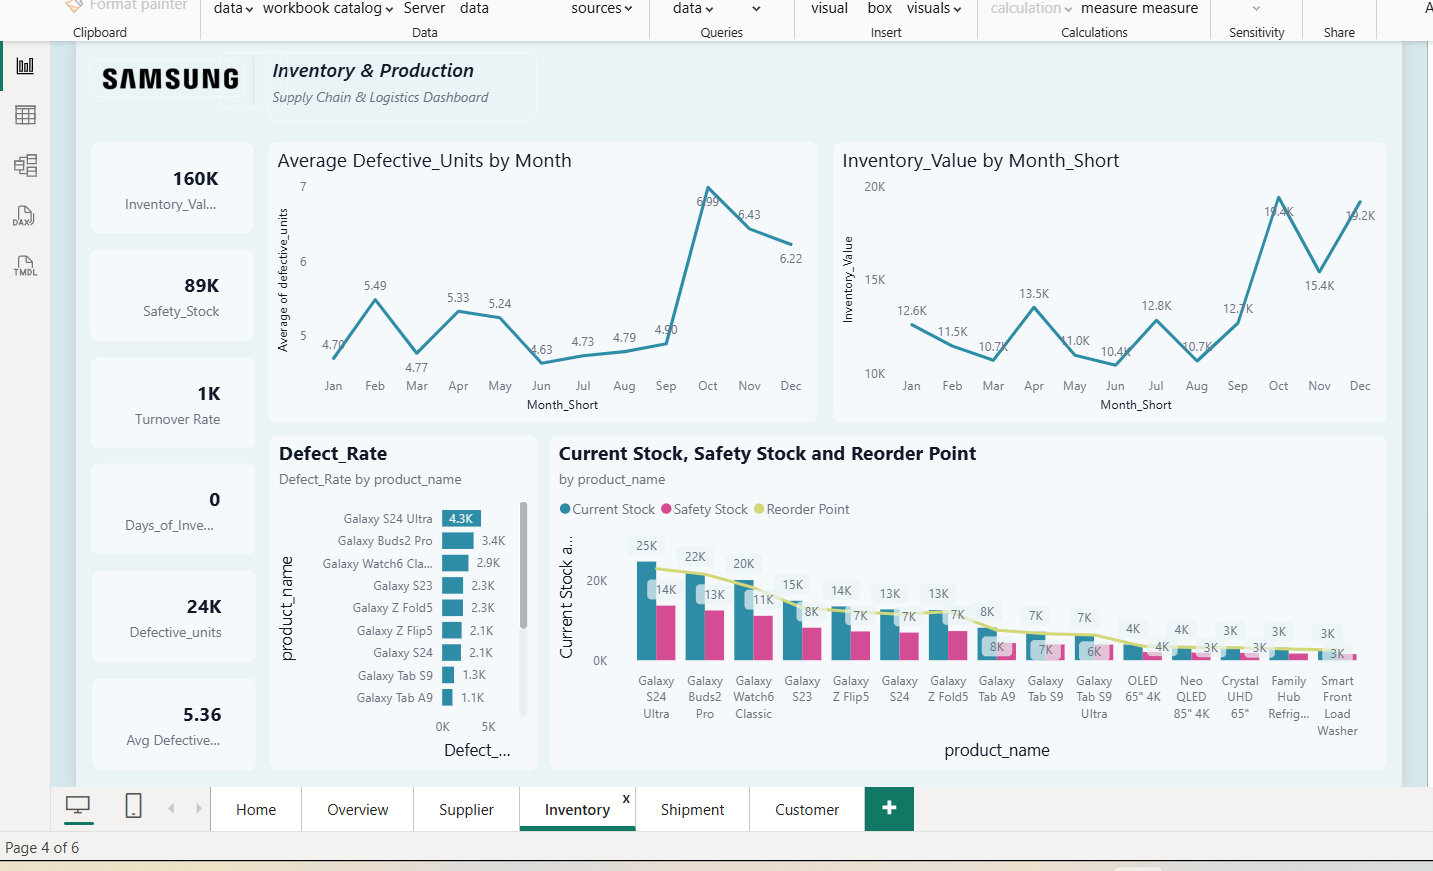

Layout of this report page (visuals, bound fields, positions):
{"tool":"powerbi","page":{"name":"Inventory","canvas":[1280,720],"ordinal":3},"visuals":[{"type":"shape","title":"Inventory & Production","box":[185.8,10.9,259.4,66.4],"z":0},{"type":"shape","box":[137.5,10.9,67.6,54.3],"z":1000},{"type":"image","box":[13.3,18.1,149.6,36.2],"z":2000},{"type":"cardVisual","fields":{"Data":["MeasureTable.Safety_Stock"]},"box":[13.3,201.2,158,88.1],"z":3000},{"type":"cardVisual","fields":{"Data":["MeasureTable.Turnover Rate"]},"box":[14,304.7,158,88.1],"z":4000},{"type":"cardVisual","fields":{"Data":["Sum(fact_production.defective_units)"]},"box":[15.4,511.8,158,88.1],"z":5000},{"type":"cardVisual","fields":{"Data":["Avg(fact_production.defective_units)"]},"box":[16.2,615.3,158,88.1],"z":6000},{"type":"cardVisual","fields":{"Data":["MeasureTable.Days_of_Inventory"]},"box":[14.7,408.3,158,88.1],"z":7000},{"type":"cardVisual","fields":{"Data":["MeasureTable.Inventory_Value"]},"box":[14.5,97.7,156.8,88.1],"z":8000},{"type":"clusteredBarChart","title":"Defect_Rate ","fields":{"Category":["dim_product.product_name"],"Y":["MeasureTable.Defect_Rate"]},"box":[187,380,258.2,323.3],"z":9000},{"type":"lineClusteredColumnComboChart","fields":{"Category":["dim_product.product_name"],"Y":["MeasureTable.Inventory_Value","MeasureTable.Safety_Stock"],"Y2":["MeasureTable.Reorder Point"]},"box":[457.2,380,807.1,323.3],"z":10000},{"type":"lineChart","title":"Average  Defective_Units by Month","fields":{"Category":["dim_date.Month_Short"],"Y":["Avg(fact_production.defective_units)"]},"box":[185.8,97.7,529.6,270.2],"z":11000},{"type":"lineChart","fields":{"Category":["dim_date.Month_Short"],"Y":["MeasureTable.Inventory_Value"]},"box":[731.1,97.7,533.2,270.2],"z":12000}]}

Visuals, with their boxes on the page's 1280x720 design canvas (x1, y1, x2, y2). These are canvas units, not pixel positions in the 1433x871 screenshot, which may show the page scaled, cropped or inside an application window:
"Inventory & Production" shape: 186,11,445,77
shape: 138,11,205,65
image: 13,18,163,54
cardVisual - MeasureTable.Safety_Stock: 13,201,171,289
cardVisual - MeasureTable.Turnover Rate: 14,305,172,393
cardVisual - Sum(fact_production.defective_units): 15,512,173,600
cardVisual - Avg(fact_production.defective_units): 16,615,174,703
cardVisual - MeasureTable.Days_of_Inventory: 15,408,173,496
cardVisual - MeasureTable.Inventory_Value: 14,98,171,186
"Defect_Rate " clusteredBarChart: 187,380,445,703
lineClusteredColumnComboChart - dim_product.product_name x MeasureTable.Inventory_Value: 457,380,1264,703
"Average  Defective_Units by Month" lineChart: 186,98,715,368
lineChart - dim_date.Month_Short x MeasureTable.Inventory_Value: 731,98,1264,368
